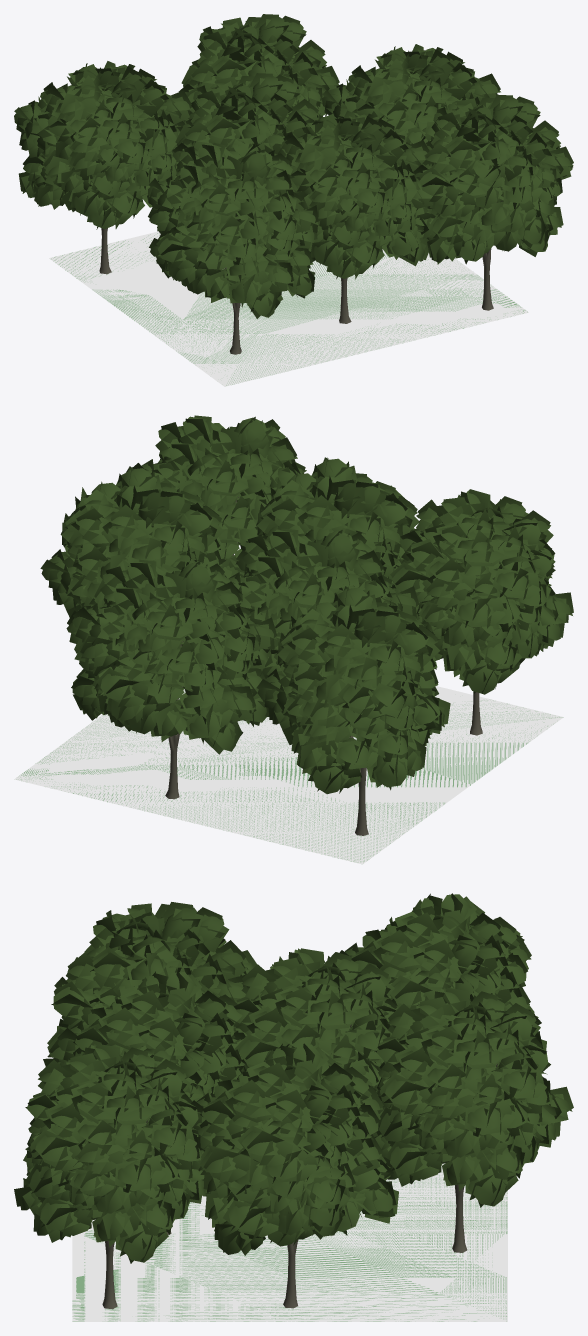
File: 25_treestand.dae
3 renders of one model, top to bottom at view 1: azimuth 30°, elevation 25°; view 2: azimuth 150°, elevation 25°; view 3: azimuth 270°, elevation 25°, orthographic. The views are drawn at different scales.
Parts seen in each view (by area): view 1: SketchUp, Group4_1 (×4); view 2: SketchUp, Group4_1 (×12); view 3: SketchUp, Group4_1 (×23).
Boxes of the visible parts, <box> form: SketchUp: <box>49,231,528,386</box>; Group4_1 (×4): <box>74,150,416,266</box>; SketchUp: <box>14,686,563,864</box>; Group4_1 (×12): <box>100,419,501,835</box>; SketchUp: <box>72,1163,507,1321</box>; Group4_1 (×23): <box>35,907,532,1309</box>.
Bounding box in the file's own units: 84.58 × 83.55 × 41.72.
